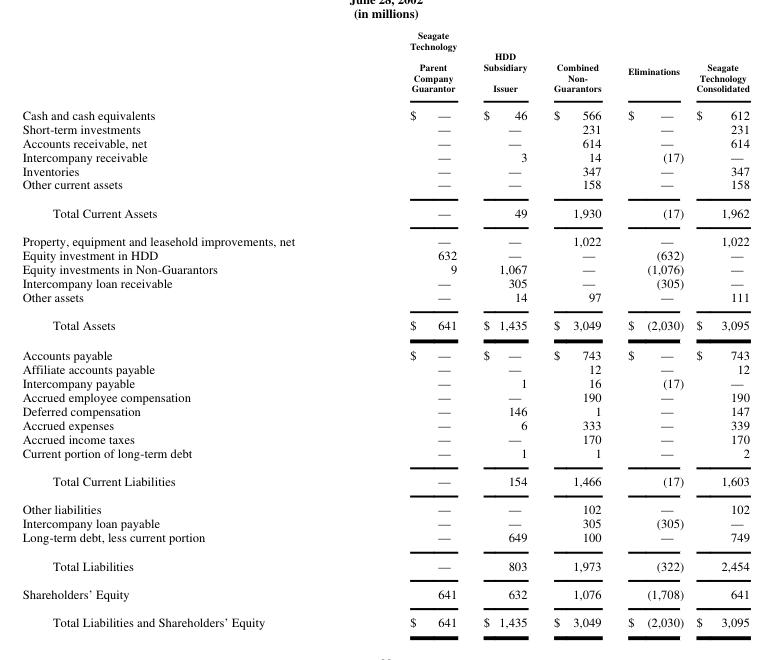table: (21, 28, 748, 629)
table column: (21, 28, 351, 629), (351, 28, 469, 629), (613, 28, 689, 629), (539, 28, 613, 629), (469, 28, 539, 629), (689, 28, 748, 629)
table column header: (21, 28, 748, 99)
table row: (21, 28, 748, 99), (21, 197, 748, 226), (21, 310, 748, 339), (21, 466, 748, 494), (21, 550, 748, 578), (21, 578, 748, 606), (21, 606, 748, 629), (21, 339, 748, 361), (21, 99, 748, 120), (21, 176, 748, 197), (21, 226, 748, 247), (21, 289, 748, 310), (21, 445, 748, 466), (21, 494, 748, 515), (21, 529, 748, 550), (21, 274, 748, 289), (21, 120, 748, 134), (21, 134, 748, 148), (21, 148, 748, 162), (21, 162, 748, 176), (21, 247, 748, 261), (21, 361, 748, 375), (21, 375, 748, 389), (21, 389, 748, 403), (21, 403, 748, 417), (21, 417, 748, 431), (21, 431, 748, 445), (21, 515, 748, 529), (21, 261, 748, 274)
